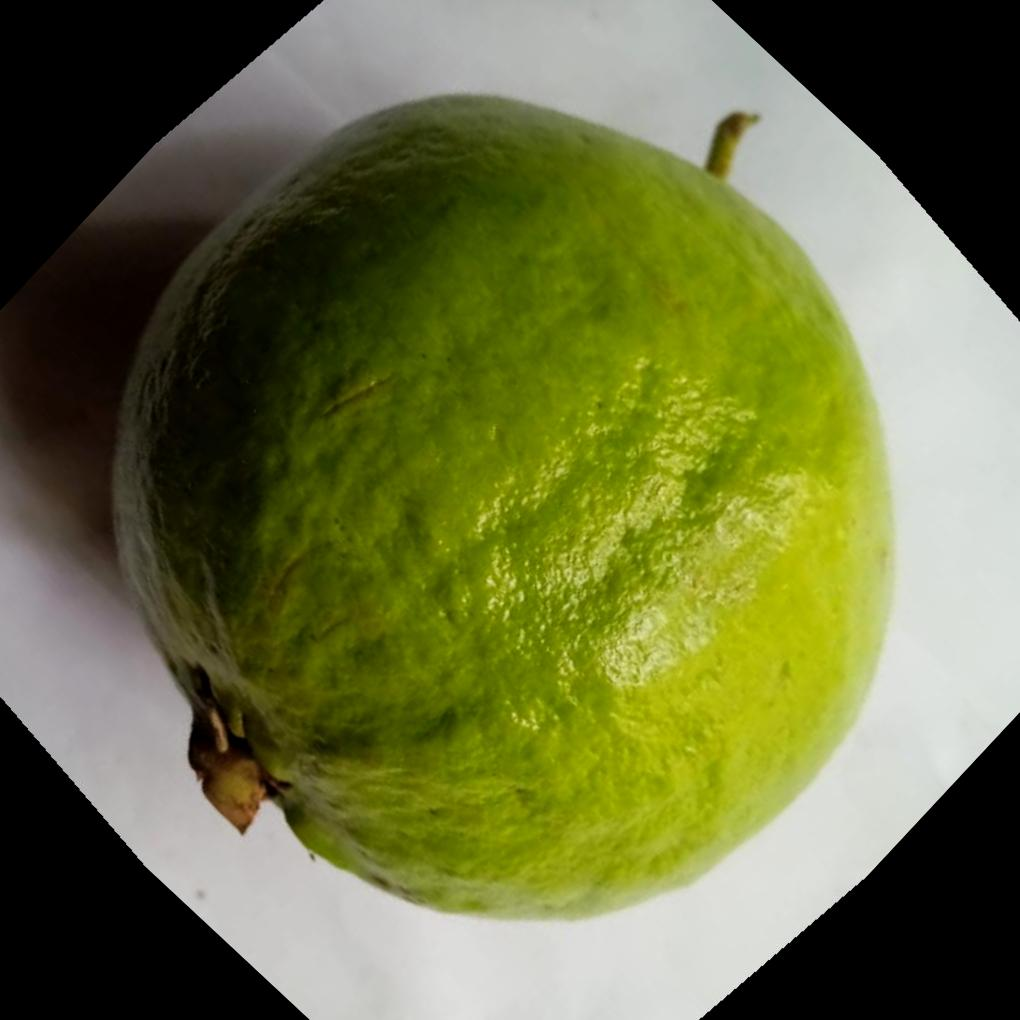FreshGuava: (105, 92, 896, 924)
